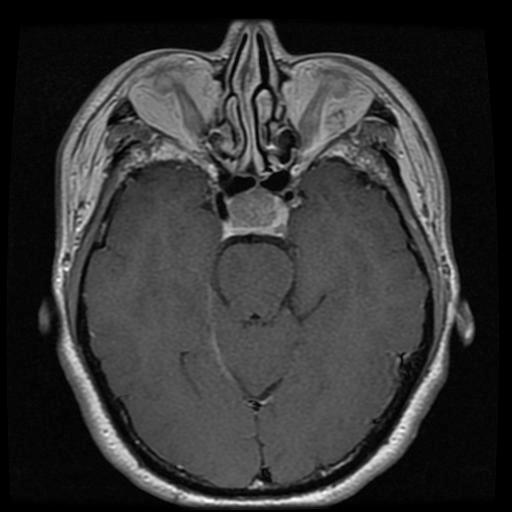Tumour-Pituitary: (216, 188, 298, 243)
